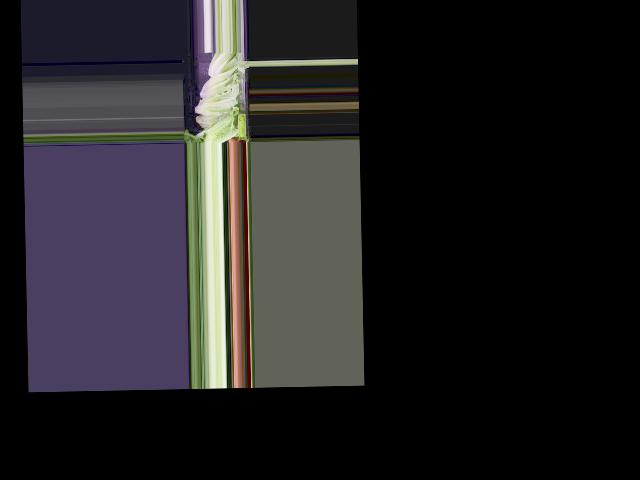lettuce: (206, 51, 236, 79)
